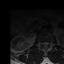CCS_normal: (44, 41, 46, 48)
LFS_normal: (48, 41, 50, 45)
LLS_normal: (46, 40, 48, 46)
RFS_normal: (40, 41, 42, 46)
RLS_normal: (42, 41, 44, 47)
